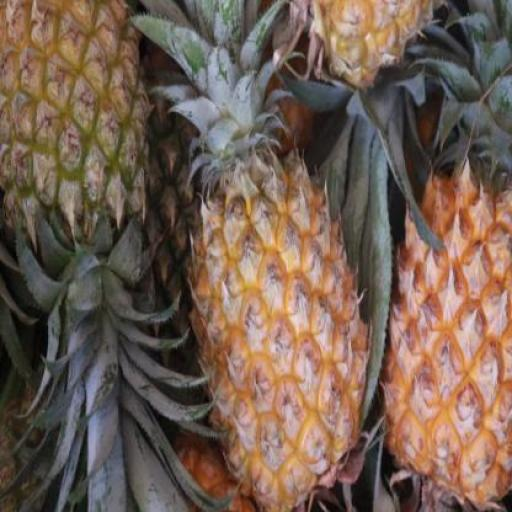------------------------------: (0, 0, 150, 240)
Pineapple - v8 v1: (184, 146, 372, 512), (384, 158, 512, 509)
